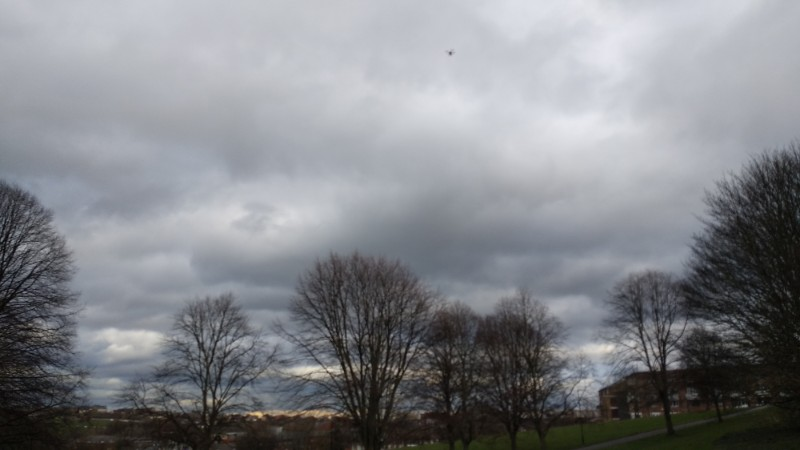drone: (445, 49, 455, 57)
